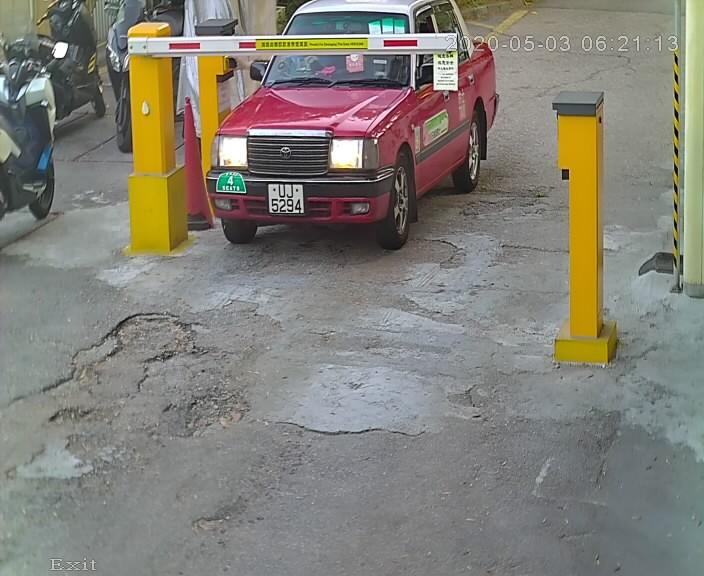Car: (191, 1, 506, 262)
License Plate: (258, 175, 313, 222)
